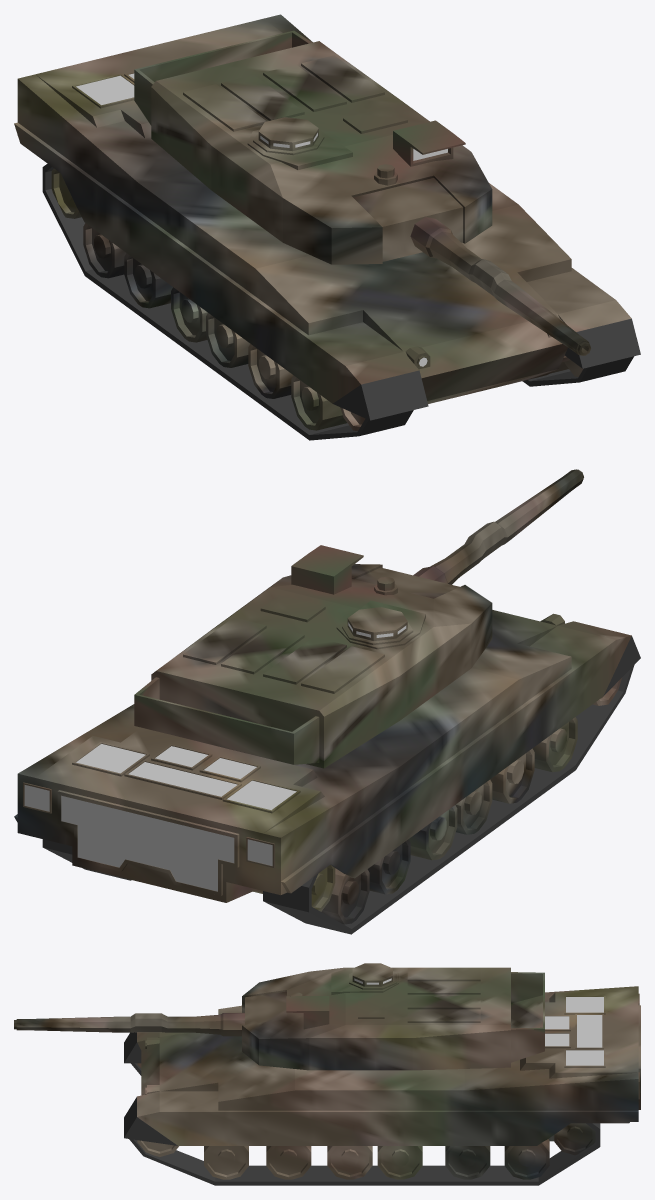
File: LowPolyType90.fbx
3 renders of one model, top to bottom at view 1: azimuth 30°, elevation 25°; view 2: azimuth 150°, elevation 25°; view 3: azimuth 270°, elevation 25°, orthographic. The views are drawn at different scales.
Parts seen in each view (by area): view 1: Plane.001, Cube.001, Cube.063, Circle.002, Cube, Circle.001, Cube.002, Plane; view 2: Plane.001, Cube.001, Cube.063, Circle.002, Circle.001, Cube.002, Cube, Plane; view 3: Plane.001, Cube.001, Cube.063, Circle.002, Circle.001, Cube, Cube.002, Plane.
Boxes of the visible parts, left/top/right/bottom form: Plane.001: left=14, top=14, right=640, bottom=420; Cube.001: left=134, top=30, right=492, bottom=264; Cube.063: left=42, top=163, right=633, bottom=440; Circle.002: left=410, top=217, right=590, bottom=355; Cube: left=353, top=178, right=462, bottom=261; Circle.001: left=247, top=117, right=352, bottom=169; Cube.002: left=393, top=120, right=465, bottom=166; Plane: left=343, top=106, right=407, bottom=133; Plane.001: left=14, top=610, right=640, bottom=902; Cube.001: left=134, top=564, right=492, bottom=768; Cube.063: left=42, top=665, right=634, bottom=934; Circle.002: left=413, top=469, right=583, bottom=584; Circle.001: left=336, top=600, right=425, bottom=649; Cube.002: left=291, top=545, right=363, bottom=594; Cube: left=355, top=567, right=459, bottom=598; Plane: left=260, top=595, right=325, bottom=622; Plane.001: left=124, top=986, right=640, bottom=1145; Cube.001: left=242, top=967, right=544, bottom=1070; Cube.063: left=129, top=1063, right=600, bottom=1185; Circle.002: left=14, top=1013, right=244, bottom=1036; Circle.001: left=331, top=963, right=398, bottom=994; Cube: left=245, top=991, right=286, bottom=1024; Cube.002: left=286, top=996, right=329, bottom=1029; Plane: left=358, top=1000, right=384, bottom=1018.
Size of the model in its own units: 128 by 96.05 by 356.
